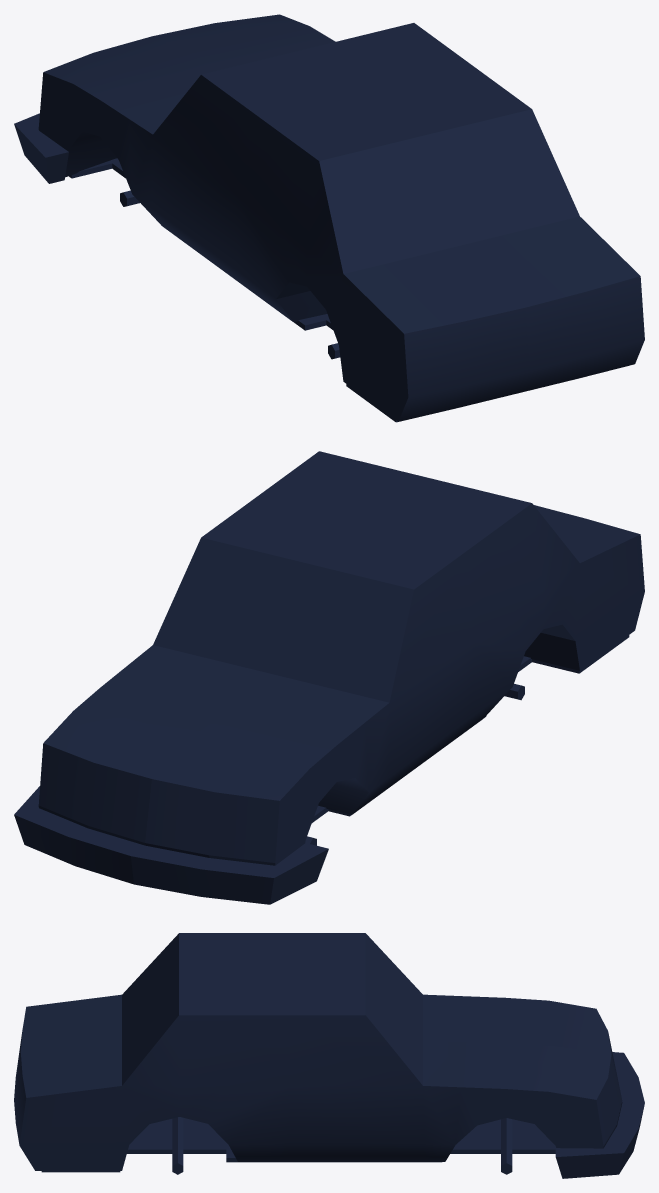
File: Car_Classic_Body.fbx
The picture shows the model from 3 angles, top to bottom: view 1: azimuth 30°, elevation 25°; view 2: azimuth 150°, elevation 25°; view 3: azimuth 270°, elevation 25°; orthographic projection. The views are drawn at different scales.
Parts seen in each view (by area): view 1: Car_Classic_Body; view 2: Car_Classic_Body; view 3: Car_Classic_Body.
Boxes of the visible parts, box(x1,y1,x2,y2) form: Car_Classic_Body: box(14, 14, 644, 422); Car_Classic_Body: box(14, 451, 644, 904); Car_Classic_Body: box(14, 933, 644, 1178).
Size of the model in its own units: 102 by 69.02 by 249.
